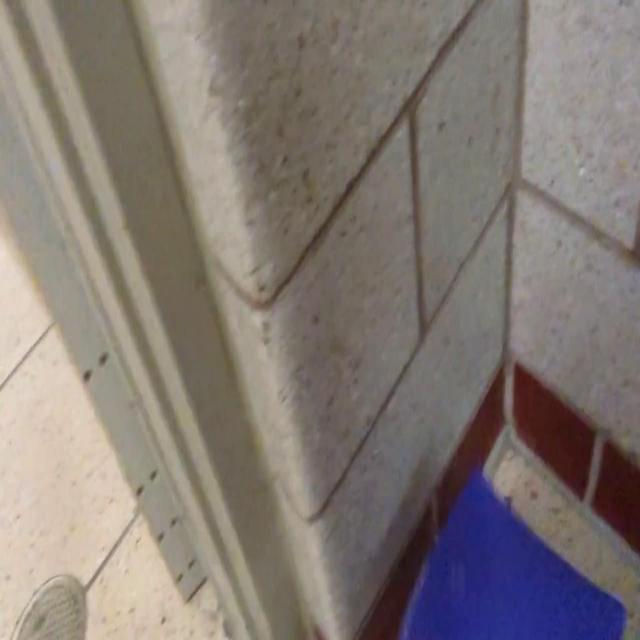frc_cube: (402, 469, 626, 640)
